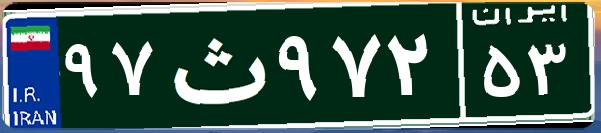2: (385, 28, 445, 110)
3: (525, 38, 570, 115)
5: (475, 38, 525, 113)
7: (330, 28, 385, 110), (110, 28, 158, 105)
9: (273, 28, 330, 110), (57, 26, 110, 107)
ث: (158, 15, 273, 115)
